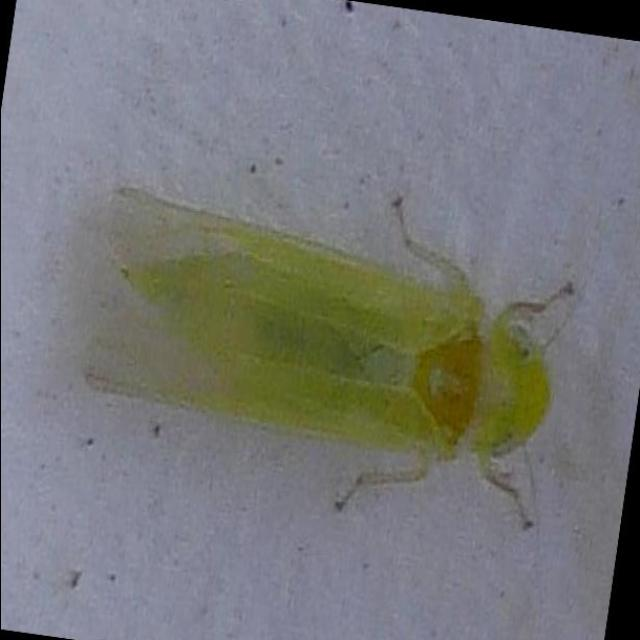green leaf hopper: (88, 188, 574, 529)
